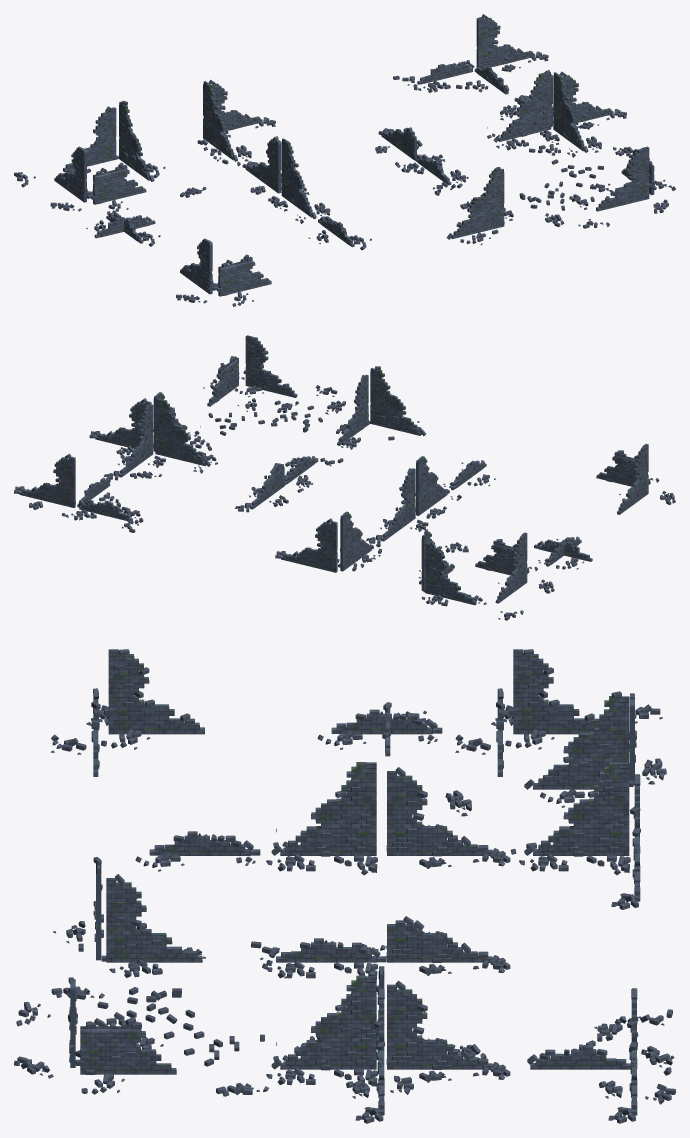
The model's file is sylizedAncient1.fbx.
3 renders of one model, top to bottom at view 1: azimuth 30°, elevation 25°; view 2: azimuth 150°, elevation 25°; view 3: azimuth 270°, elevation 25°, orthographic. The views are drawn at different scales.
Parts seen in each view (by area): view 1: Bricks1; view 2: Bricks1; view 3: Bricks1.
Boxes of the visible parts, x1=… form: Bricks1: x1=14, y1=14, x2=675, y2=306; Bricks1: x1=14, y1=335, x2=675, y2=620; Bricks1: x1=14, y1=649, x2=675, y2=1123.
Bounding box in the file's own units: 1941 × 218 × 1309.
Materials: 1 (1 with a texture image).
